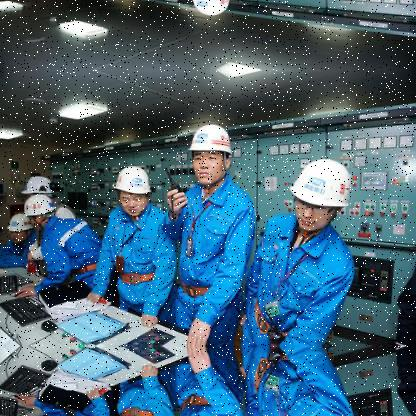helmet: (286, 150, 355, 230), (191, 118, 240, 187), (114, 159, 154, 213), (22, 174, 55, 209), (25, 191, 54, 225), (191, 0, 241, 19), (8, 211, 32, 240)
